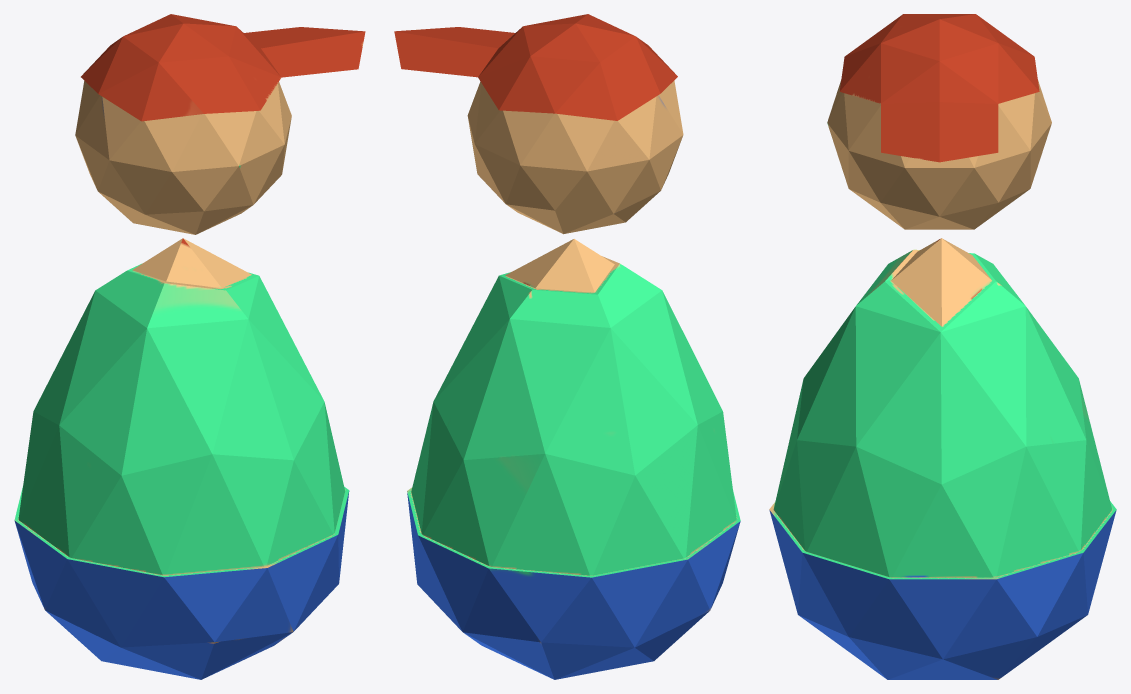
The model's file is Peep4.fbx.
The picture shows the model from 3 angles, left to right: view 1: azimuth 30°, elevation 25°; view 2: azimuth 150°, elevation 25°; view 3: azimuth 270°, elevation 25°; orthographic projection.
Parts seen in each view (by area): view 1: Person2; view 2: Person2; view 3: Person2.
Boxes of the visible parts, box(x1,y1,x2,y2) form: Person2: box(14, 14, 365, 679); Person2: box(394, 14, 740, 679); Person2: box(769, 14, 1116, 679).
Size of the model in its own units: 47.4 by 98.25 by 51.63.
